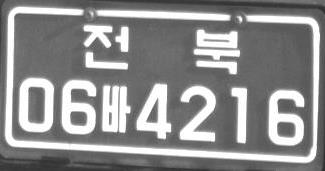0: (17, 75, 54, 132)
1: (225, 86, 257, 145)
2: (179, 84, 216, 141)
4: (136, 83, 171, 139)
6: (267, 87, 305, 145), (60, 78, 96, 136)
바: (101, 84, 131, 134)
전북_D: (83, 24, 241, 74)
